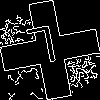L: (25, 25, 61, 75)
